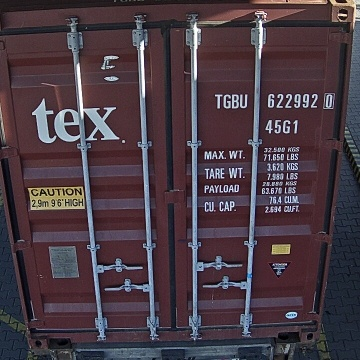serial_id: (215, 93, 334, 108)
